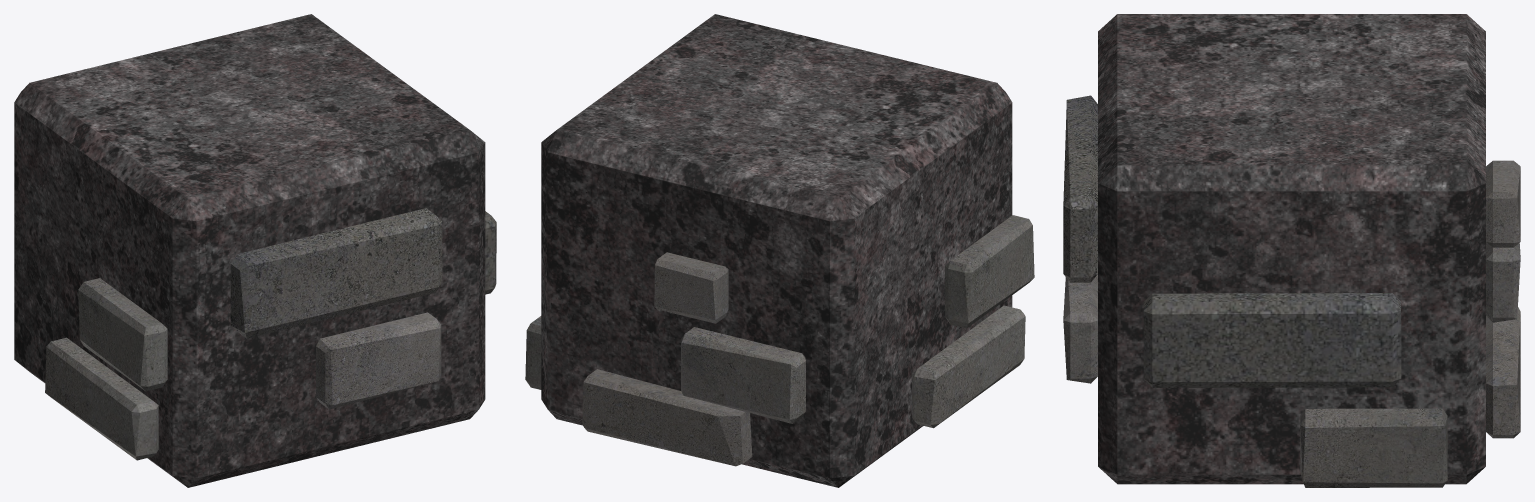
File: Pillar_wall2.fbx
The picture shows the model from 3 angles, left to right: view 1: azimuth 30°, elevation 25°; view 2: azimuth 150°, elevation 25°; view 3: azimuth 270°, elevation 25°; orthographic projection. The views are drawn at different scales.
Visible parts, largest first — view 1: Pillar_wall2; view 2: Pillar_wall2; view 3: Pillar_wall2.
Part boxes in pixels (left/top/right/bottom): Pillar_wall2: left=14, top=14, right=496, bottom=487; Pillar_wall2: left=525, top=14, right=1034, bottom=487; Pillar_wall2: left=1063, top=14, right=1520, bottom=487.
Bounding box in the file's own units: 0.8468 × 0.6374 × 0.8293.
1 material, 1 textured.
